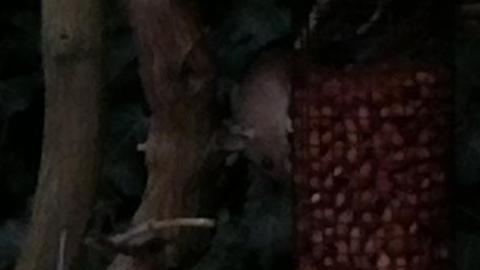mouse: (225, 47, 296, 184)
